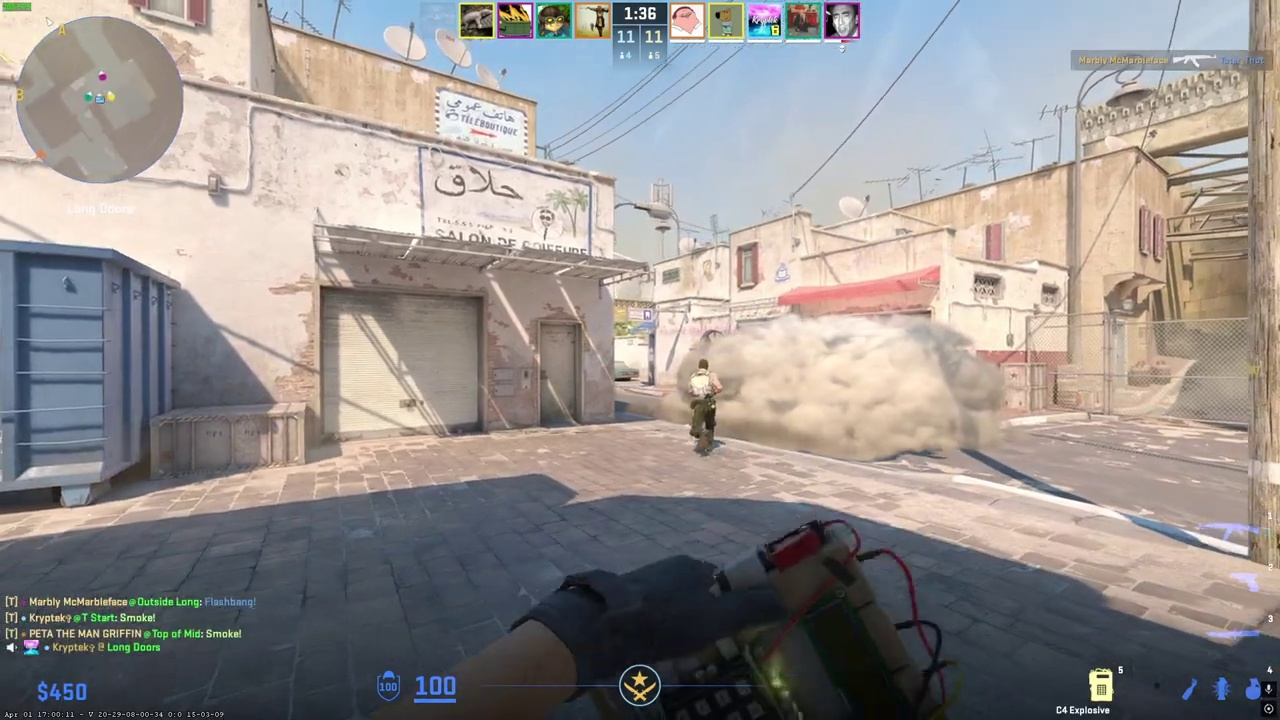Terrorist: (683, 358, 722, 455)
